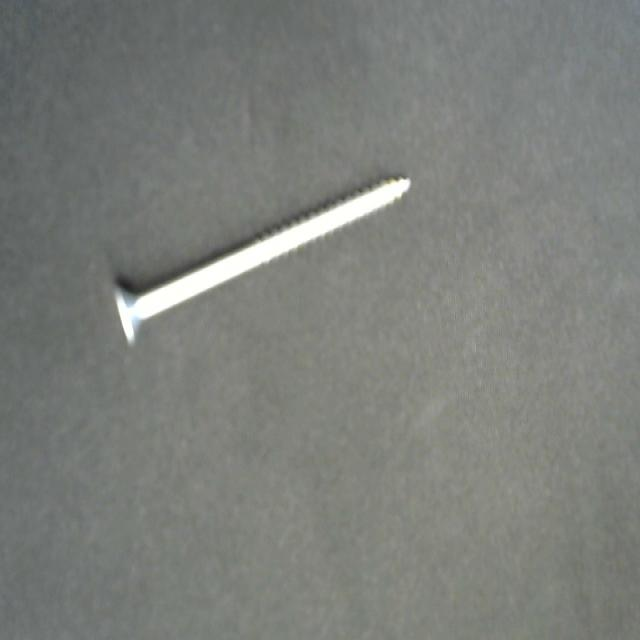WoodScrew: (99, 162, 420, 354)
